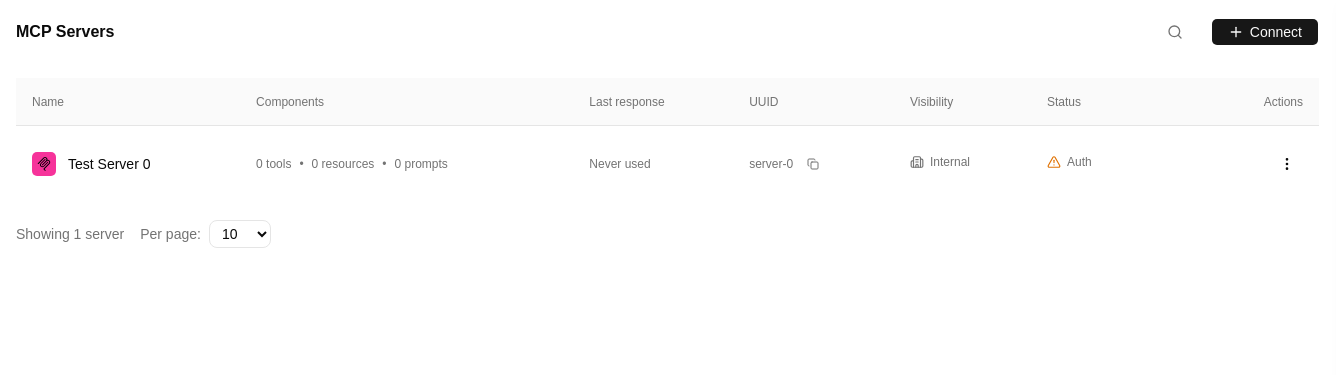
Servers › reloads OAuth status after authorizing even when the server refetch fails
This screenshot has width=1336, height=375.
Click the button with aria-label "authorize test server 0" at (1092,162), box 1047,154 -> 1137,170
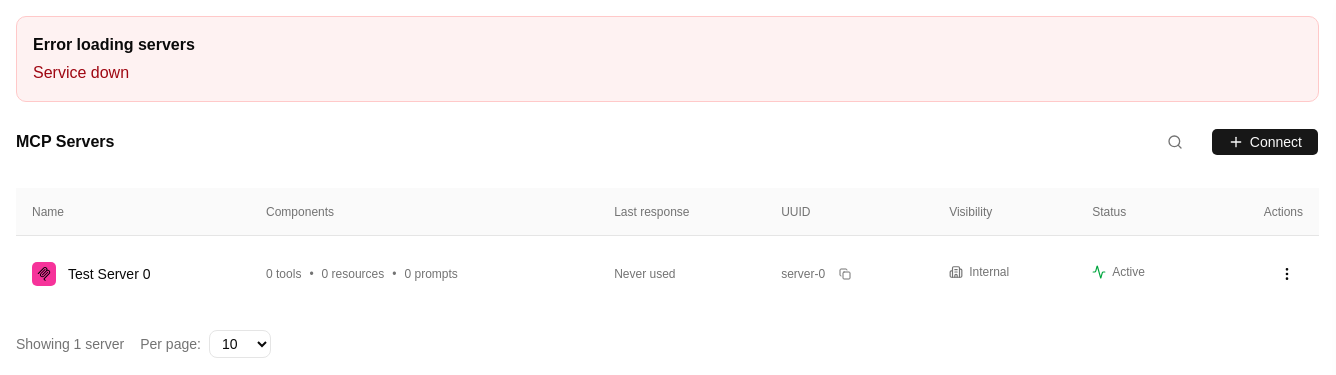
expect the text "Active" is shown: met, box 1112,264 -> 1145,280
